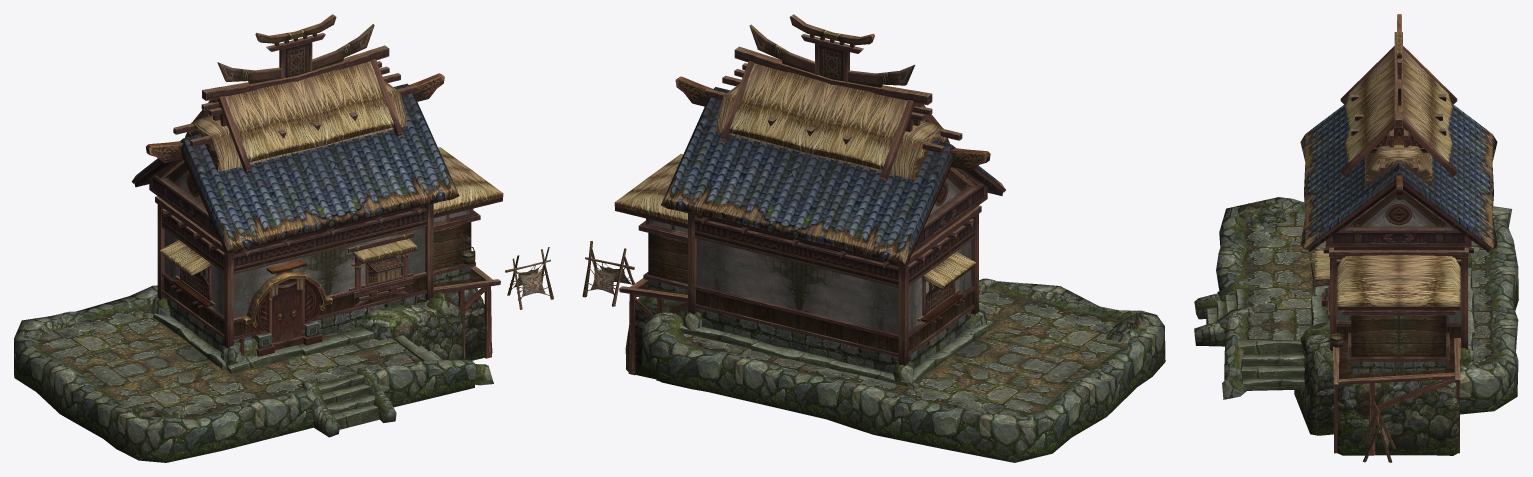
The model's file is Maincity03_Building_04_LOD0.FBX.
The picture shows the model from 3 angles, left to right: view 1: azimuth 30°, elevation 25°; view 2: azimuth 150°, elevation 25°; view 3: azimuth 270°, elevation 25°; orthographic projection. The views are drawn at different scales.
Parts seen in each view (by area): view 1: QYZ_CMC_A_04_LOD0; view 2: QYZ_CMC_A_04_LOD0; view 3: QYZ_CMC_A_04_LOD0.
Boxes of the visible parts, box(x1,y1,x2,y2) form: QYZ_CMC_A_04_LOD0: box(14, 14, 553, 462); QYZ_CMC_A_04_LOD0: box(582, 14, 1165, 462); QYZ_CMC_A_04_LOD0: box(1194, 14, 1518, 462).
Size of the model in its own units: 2126 by 1435 by 1233.
